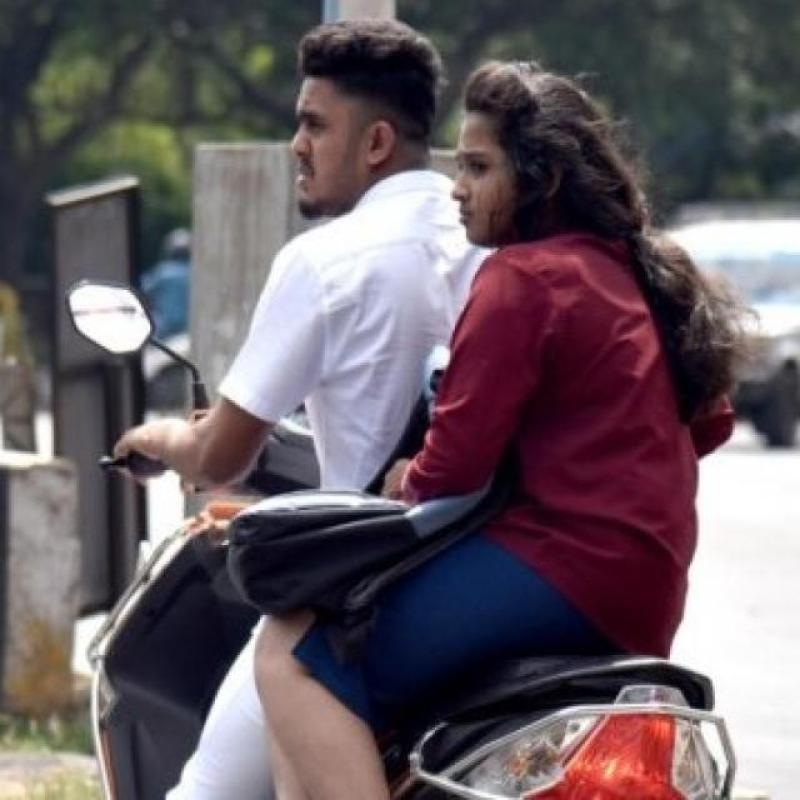nohelmet: (278, 33, 418, 216), (454, 66, 568, 239)
